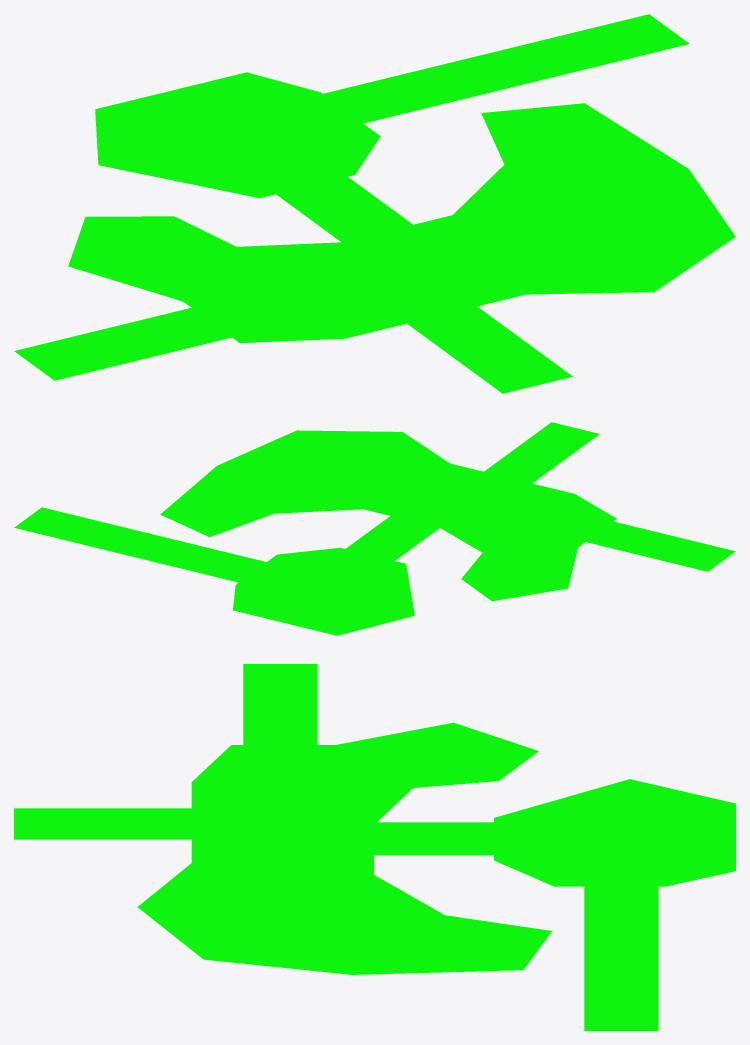
File: s03a_tc3-floor.glb
3 renders of one model, top to bottom at view 1: azimuth 30°, elevation 25°; view 2: azimuth 150°, elevation 25°; view 3: azimuth 270°, elevation 25°, orthographic. The views are drawn at different scales.
Visible parts, largest first — view 1: collision_floor-colonly; view 2: collision_floor-colonly; view 3: collision_floor-colonly.
Boxes of the visible parts, x1=… form: collision_floor-colonly: x1=14, y1=14, x2=735, y2=393; collision_floor-colonly: x1=14, y1=422, x2=735, y2=635; collision_floor-colonly: x1=14, y1=664, x2=735, y2=1030.
Bounding box in the file's own units: 70 × 0.1992 × 58.24.
